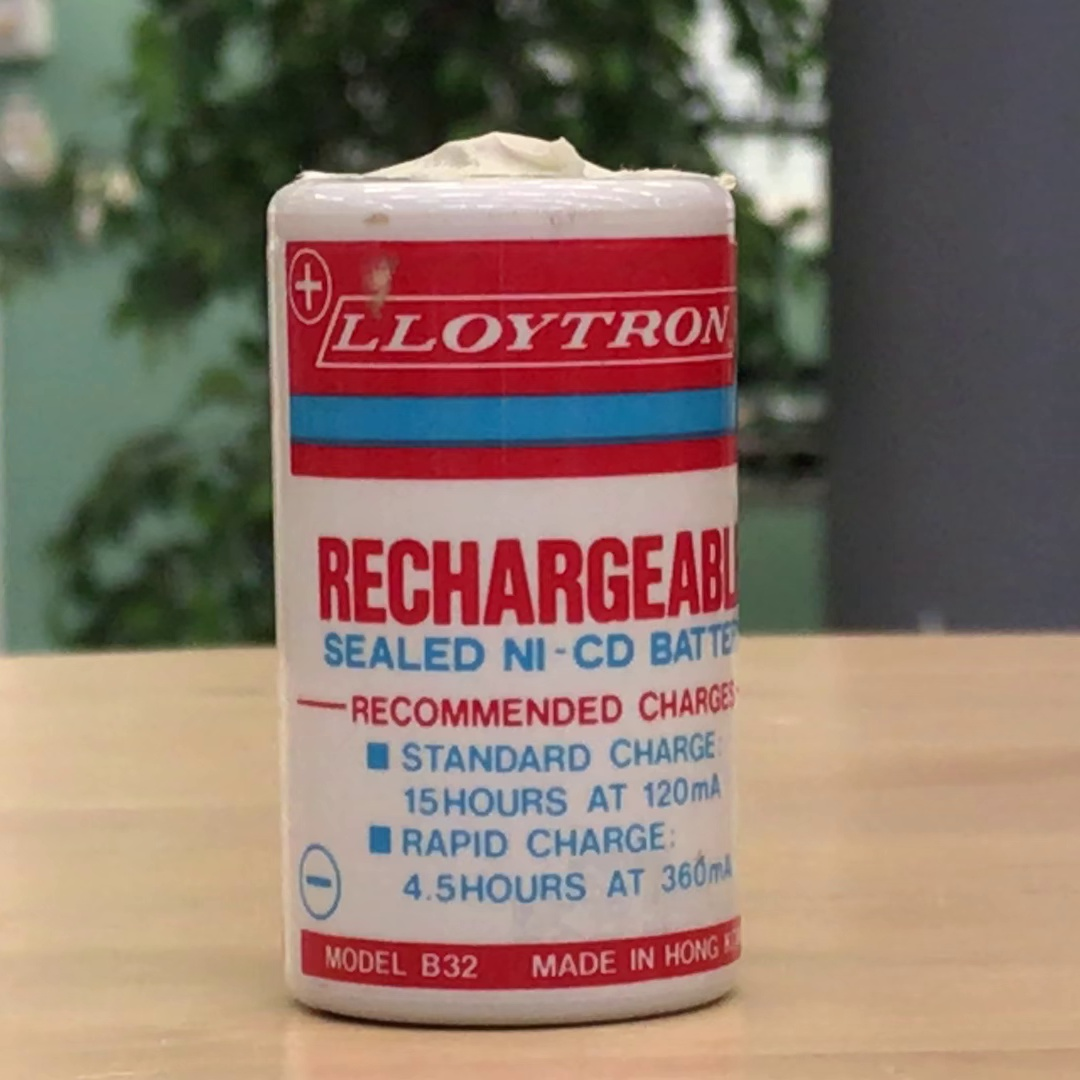keyword: (369, 948, 462, 978)
